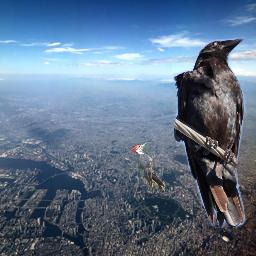Crow: (173, 36, 246, 228)
Woodpecker: (132, 142, 165, 191)
